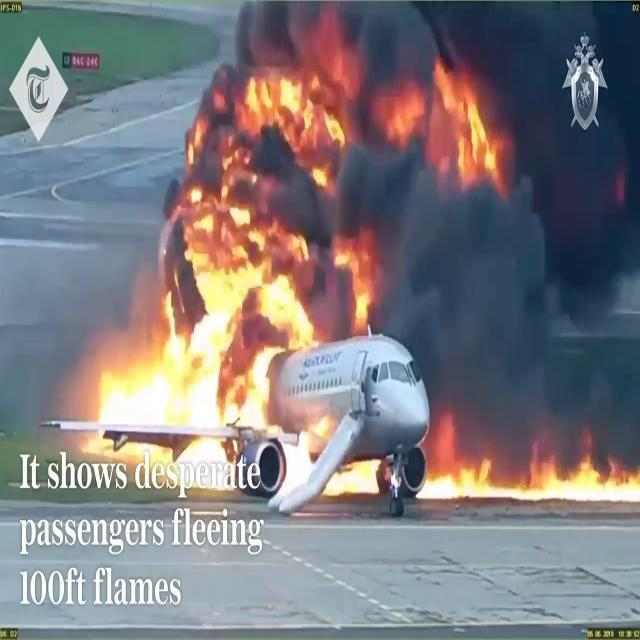Fire: (86, 50, 380, 444), (427, 437, 639, 508)
